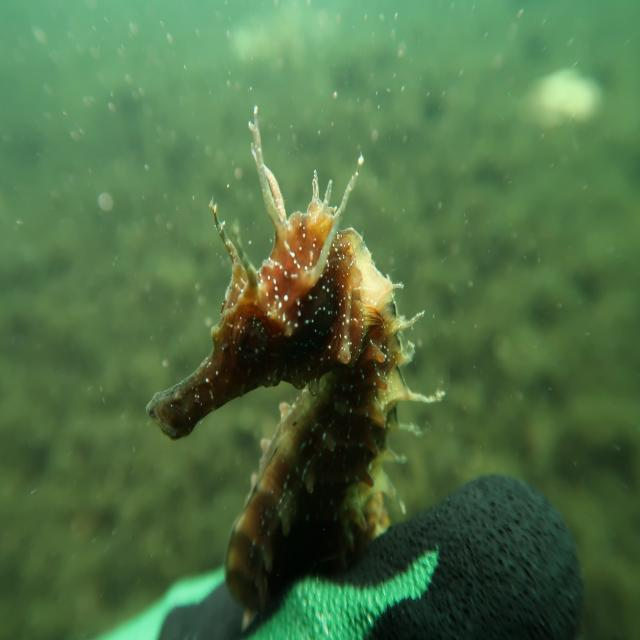Guttu: (146, 197, 362, 453)
